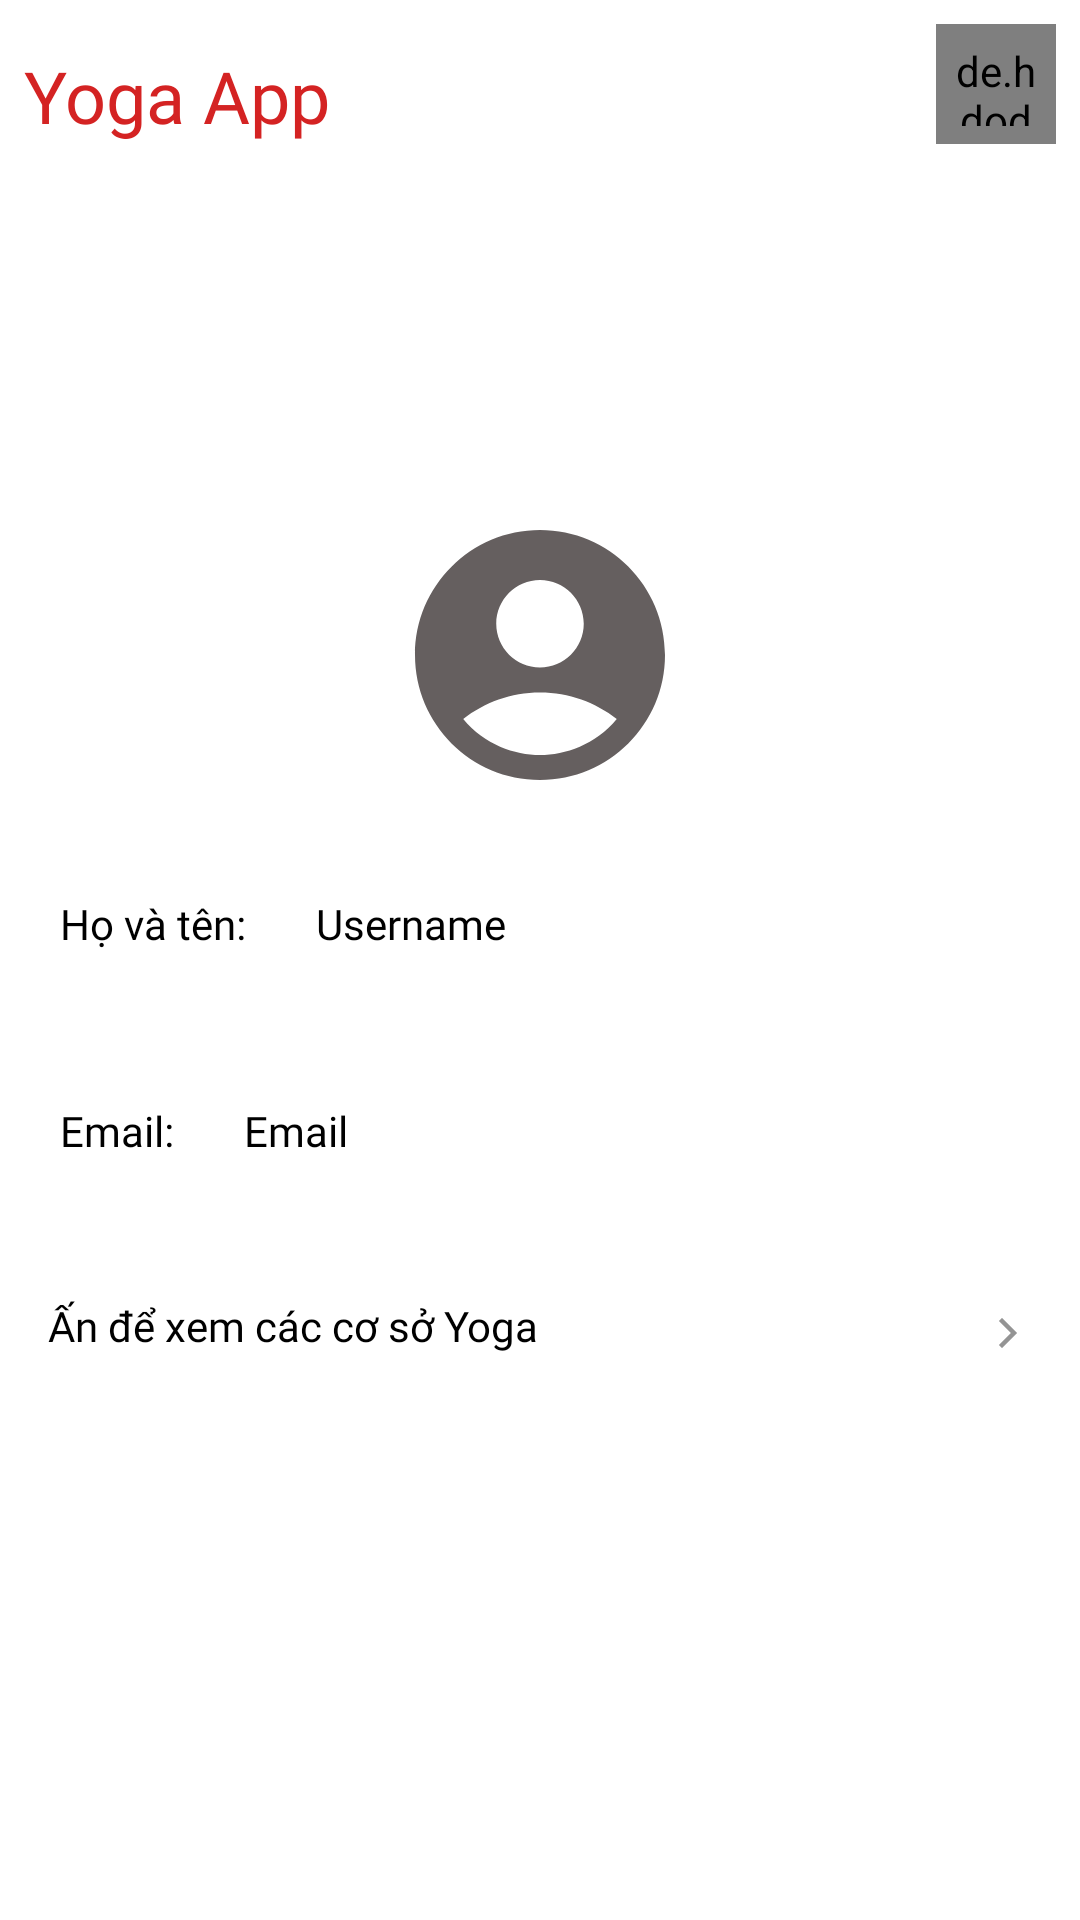

Icons on this 1080w x 1920h Android screen, each with its box as bbox(x1, y1, x2, y2):
profile: bbox(415, 530, 665, 780)
